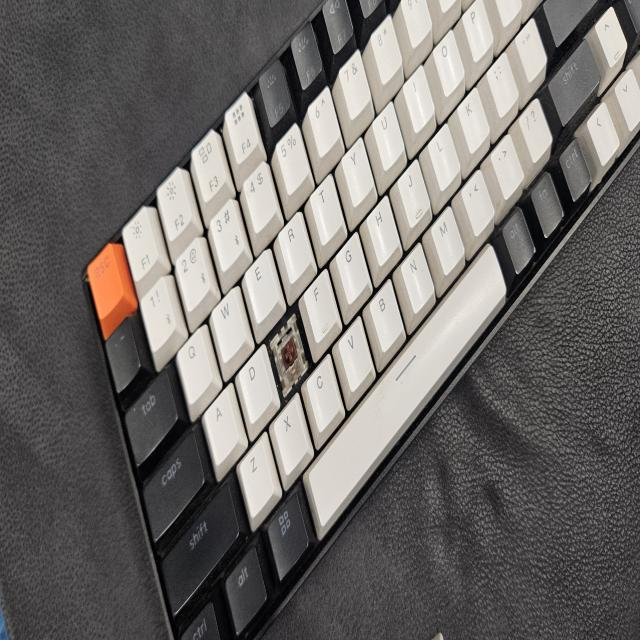C: (272, 330, 302, 372)
